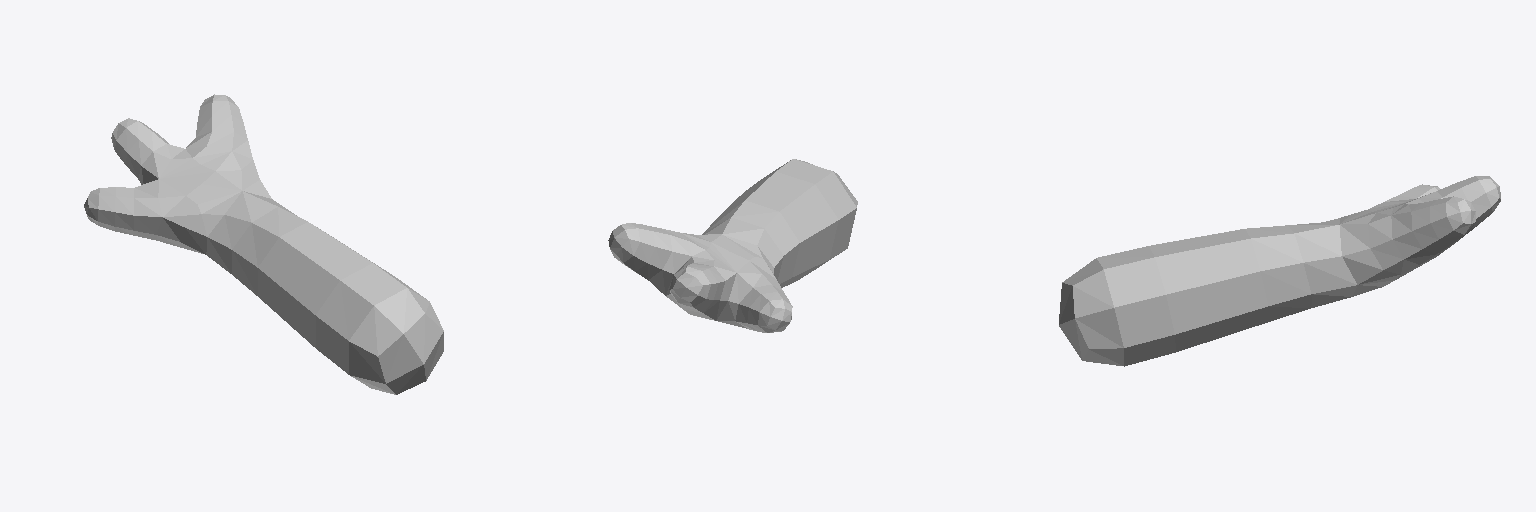
The model's file is player_hand.obj.
The picture shows the model from 3 angles: view 1: azimuth 30°, elevation 25°; view 2: azimuth 150°, elevation 25°; view 3: azimuth 270°, elevation 25°; orthographic projection.
Visible parts, largest first — view 1: Cube.001; view 2: Cube.001; view 3: Cube.001.
Part boxes in pixels (bbox=[...]): Cube.001: bbox=[84, 94, 443, 394]; Cube.001: bbox=[608, 159, 857, 332]; Cube.001: bbox=[1059, 176, 1500, 366].
Bounding box in the file's own units: 0.4461 × 0.3642 × 0.8925.